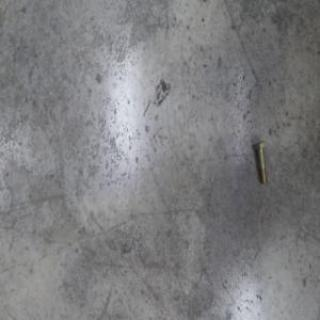Bolttrack_idkeyframe: (252, 139, 267, 184)
